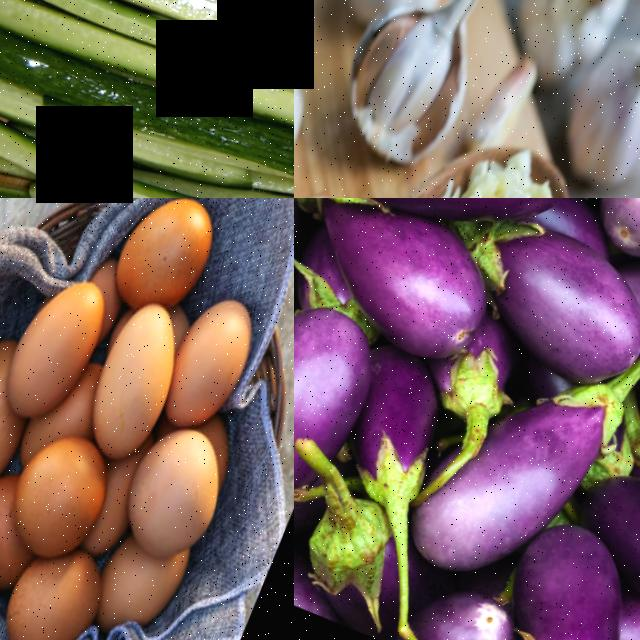cucumber: (6, 10, 294, 198), (0, 80, 294, 198), (0, 0, 294, 109)
egg_: (76, 290, 199, 462), (111, 409, 244, 566), (0, 260, 121, 430), (0, 413, 130, 566), (157, 277, 272, 435), (105, 198, 229, 312), (92, 523, 200, 640), (0, 538, 115, 640)
eggplant: (417, 343, 626, 593), (472, 207, 640, 385), (294, 284, 397, 564), (328, 340, 471, 508), (489, 504, 640, 640), (322, 198, 600, 270)
garlic: (321, 0, 489, 173), (548, 18, 640, 198), (504, 0, 640, 82), (294, 61, 318, 198)
